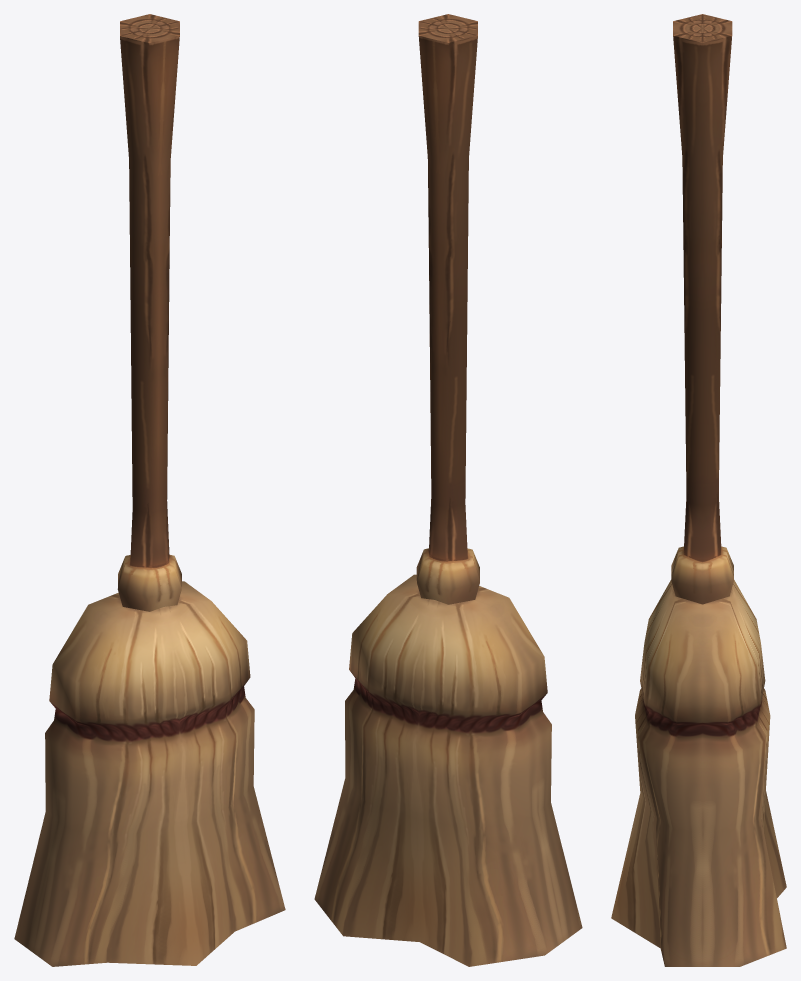
The model's file is ENV2010017.fbx.
3 views of the same model, side by side, from view 1: azimuth 30°, elevation 25°; view 2: azimuth 150°, elevation 25°; view 3: azimuth 270°, elevation 25° (orthographic).
Visible parts, largest first — view 1: smENV2010017; view 2: smENV2010017; view 3: smENV2010017.
Boxes of the visible parts, bbox=[...] form: smENV2010017: bbox=[14, 14, 285, 966]; smENV2010017: bbox=[314, 14, 582, 966]; smENV2010017: bbox=[611, 14, 786, 966].
Size of the model in its own units: 10.51 by 38.92 by 6.96.
1 material, 1 textured.
